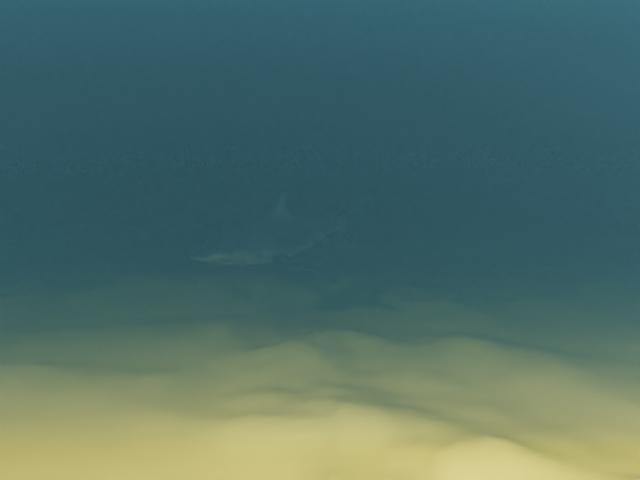Carribean Shark.001: (190, 185, 385, 271)
